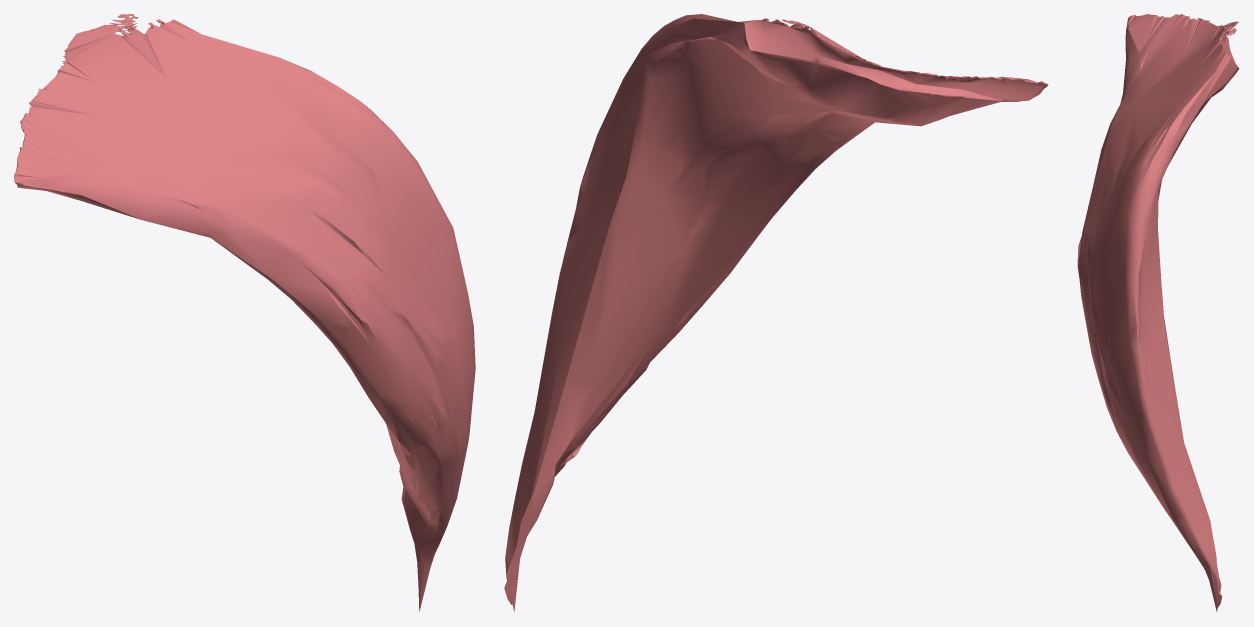
3 renders of one model, left to right at view 1: azimuth 30°, elevation 25°; view 2: azimuth 150°, elevation 25°; view 3: azimuth 270°, elevation 25°, orthographic. The views are drawn at different scales.
Parts seen in each view (by area): view 1: FJ1468M; view 2: FJ1468M; view 3: FJ1468M.
Part boxes in pixels (x1,y1,x2,y2): FJ1468M: [14, 14, 475, 611]; FJ1468M: [504, 14, 1048, 611]; FJ1468M: [1077, 14, 1239, 611].
Bounding box in the file's own units: 0.1144 × 0.1507 × 0.046.
